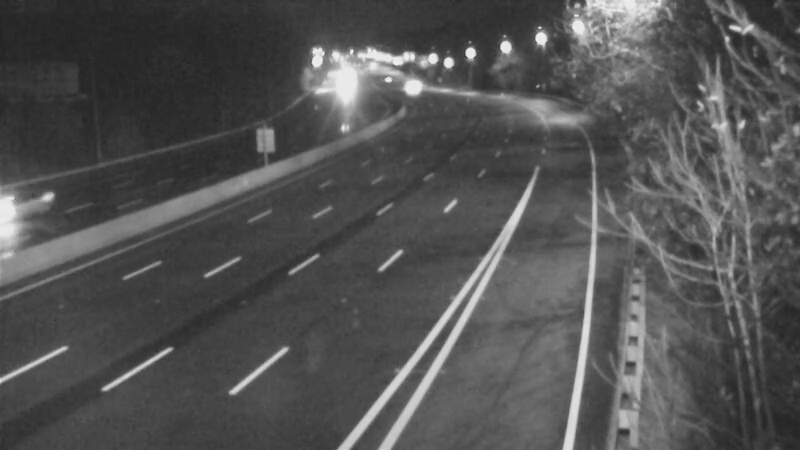vehicle: (1, 162, 68, 242), (384, 61, 434, 111), (321, 61, 371, 111)
